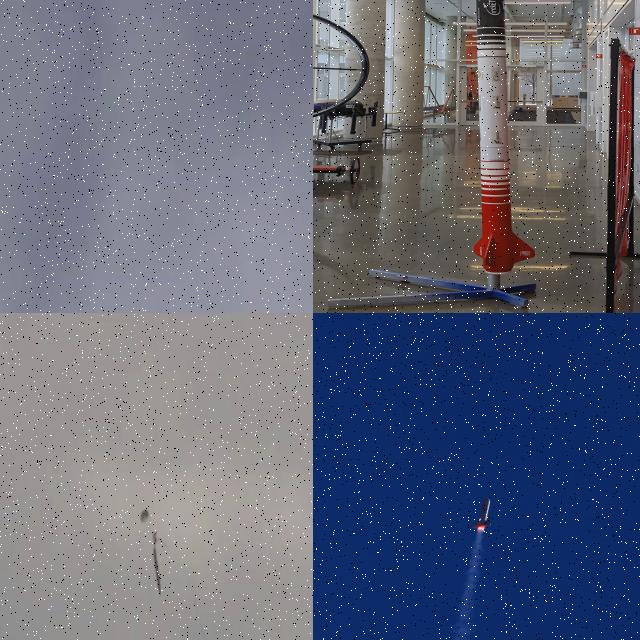Rocket: (474, 0, 535, 274), (470, 497, 493, 533)
